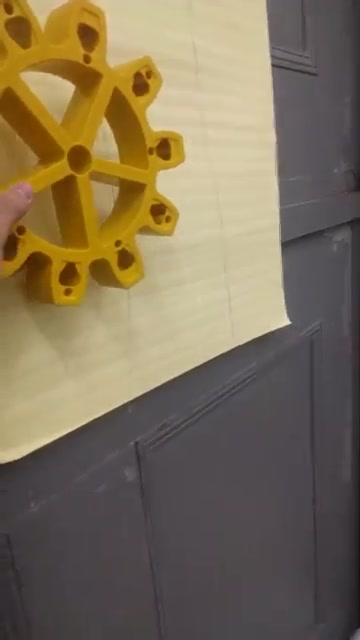gear: (1, 1, 186, 309)
